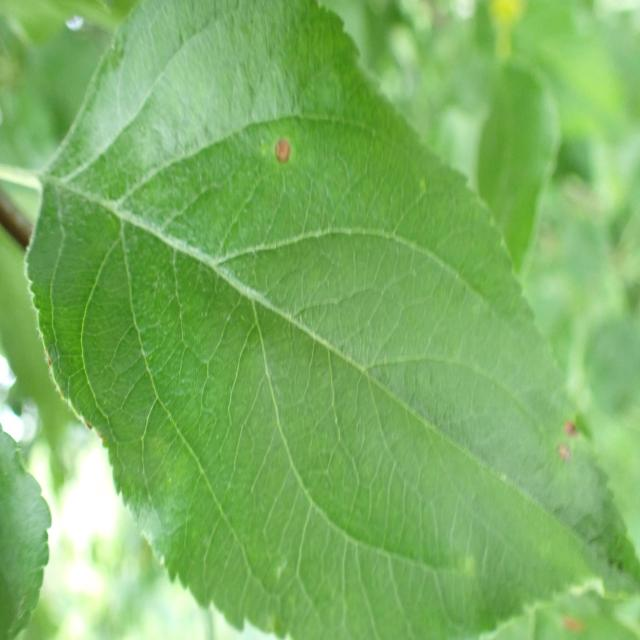Black Rot: (263, 121, 299, 176)
